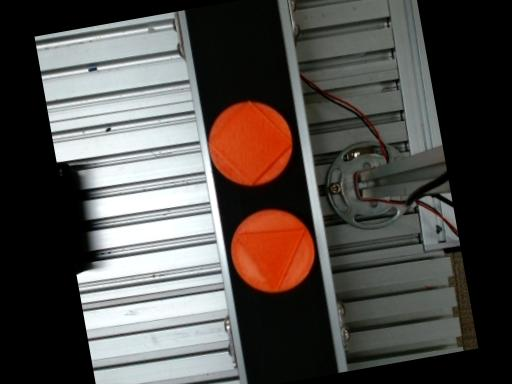Not_Square: (235, 227, 306, 293)
Orange_Waper: (208, 100, 292, 186), (230, 208, 314, 293)
Square: (207, 99, 292, 185)
